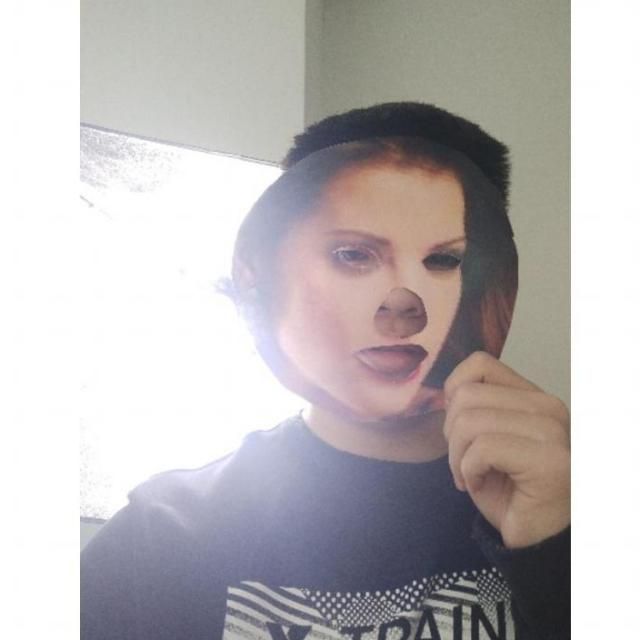mask: (226, 133, 524, 424)
